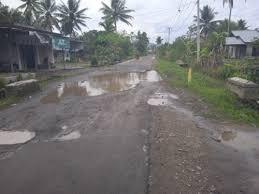Pothole: (32, 65, 184, 110), (188, 109, 259, 158), (44, 120, 94, 144), (0, 124, 38, 147)
